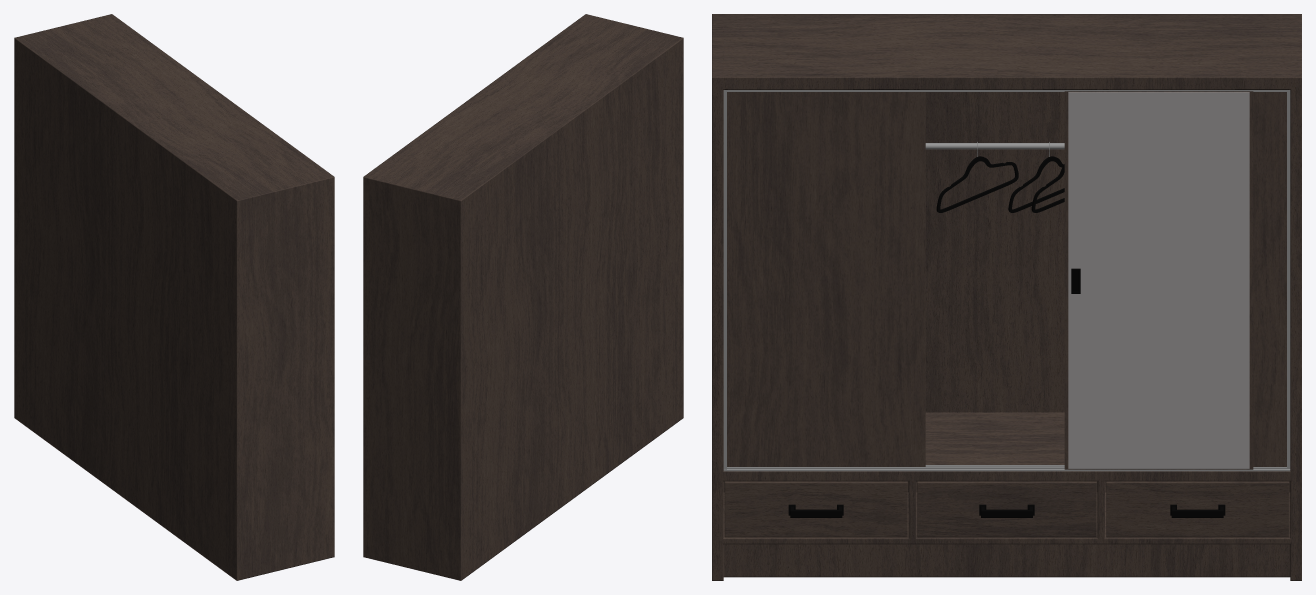
The model's file is wooden_wardrobe_with_hangers_inside_-_free.glb.
3 views of the same model, side by side, from view 1: azimuth 30°, elevation 25°; view 2: azimuth 150°, elevation 25°; view 3: azimuth 270°, elevation 25° (orthographic). The views are drawn at different scales.
Visible parts, largest first — view 1: Orman 2_14; view 2: Orman 2_14; view 3: Orman 2_14, Door Wood Left_1, DoorWood Middle_15, Door Wood Right_2, Drawer1_3, Drawer3_7, Drawer2_5, Orman 2.014_13, Cylinder_0, Offinger1_9.
Boxes of the visible parts, left/top/right/bottom form: Orman 2_14: left=14, top=14, right=334, bottom=580; Orman 2_14: left=363, top=14, right=683, bottom=580; Orman 2_14: left=712, top=14, right=1301, bottom=580; Door Wood Left_1: left=727, top=92, right=925, bottom=466; DoorWood Middle_15: left=1064, top=91, right=1253, bottom=469; Door Wood Right_2: left=1253, top=92, right=1286, bottom=466; Drawer1_3: left=724, top=481, right=907, bottom=537; Drawer3_7: left=1106, top=481, right=1289, bottom=537; Drawer2_5: left=917, top=481, right=1096, bottom=537; Orman 2.014_13: left=723, top=90, right=1290, bottom=471; Cylinder_0: left=925, top=143, right=1064, bottom=149; Offinger1_9: left=936, top=142, right=1018, bottom=212.
Size of the model in its own units: 0.5489 by 1.9 by 2.02.
Materials: 4 (1 with a texture image).
